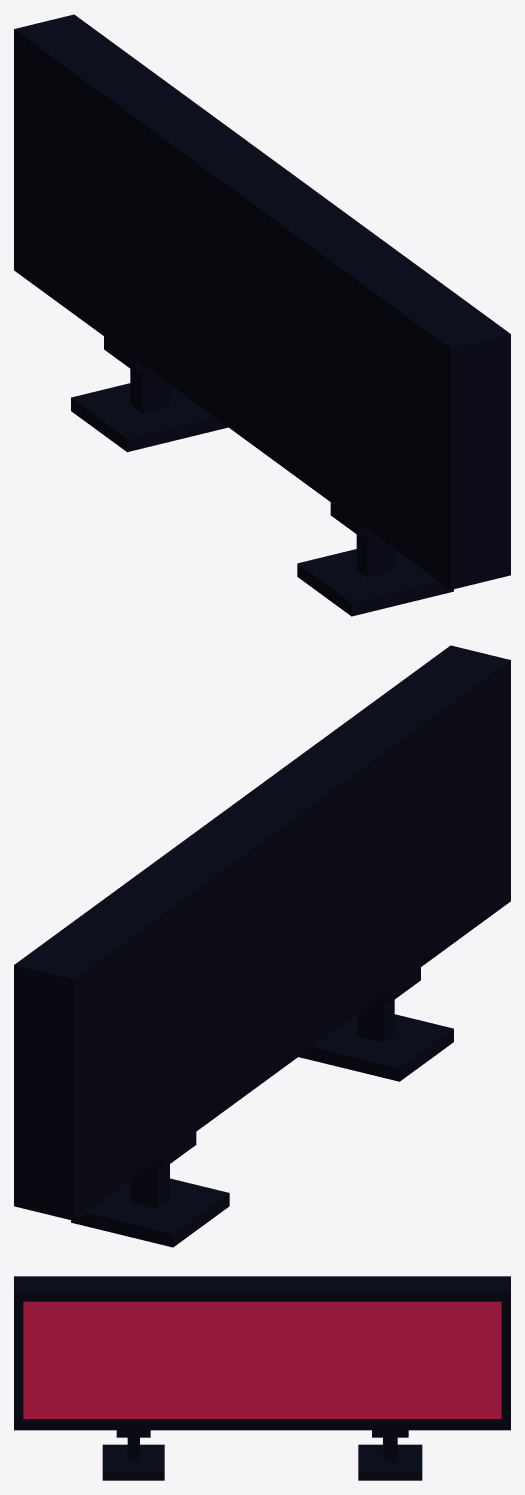
Rendered from Sign_Long_Dark_03.fbx.
The picture shows the model from 3 angles, top to bottom: view 1: azimuth 30°, elevation 25°; view 2: azimuth 150°, elevation 25°; view 3: azimuth 270°, elevation 25°; orthographic projection. The views are drawn at different scales.
Visible parts, largest first — view 1: Cube.185; view 2: Cube.185; view 3: Cube.185.
Part boxes in pixels (x1,y1,x2,y2): Cube.185: [14, 14, 510, 616]; Cube.185: [14, 645, 510, 1247]; Cube.185: [14, 1276, 510, 1480].
Bounding box in the file's own units: 56 × 167 × 414.
